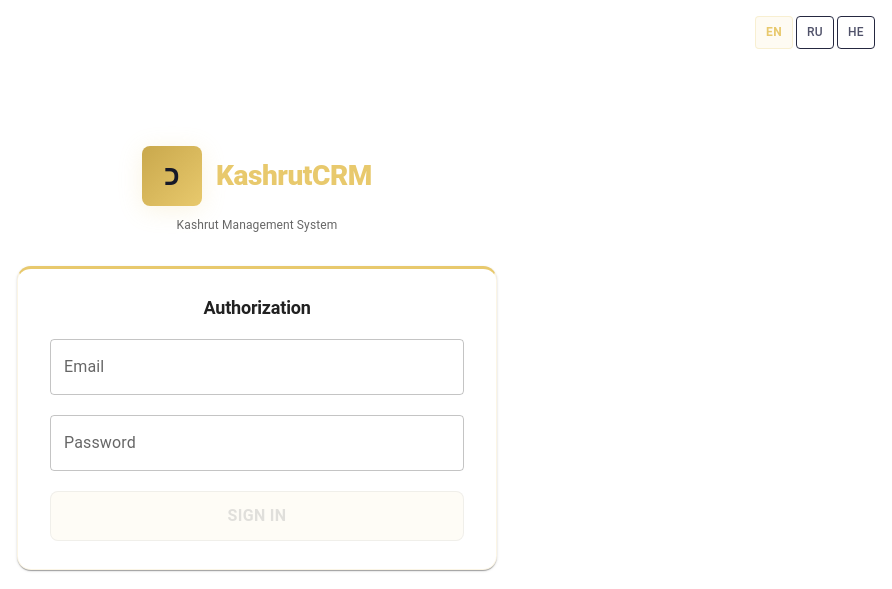
Test: Login page — email/password form › sign-in button is disabled until both fields filled
This screenshot has width=892, height=589.
Expected: the button "Sign in" is disabled, top-left (50, 491), bottom-right (464, 541)
Type "a@b.il" into the field labelled "Email" at (257, 367), box top-left (50, 339), bottom-right (464, 395)
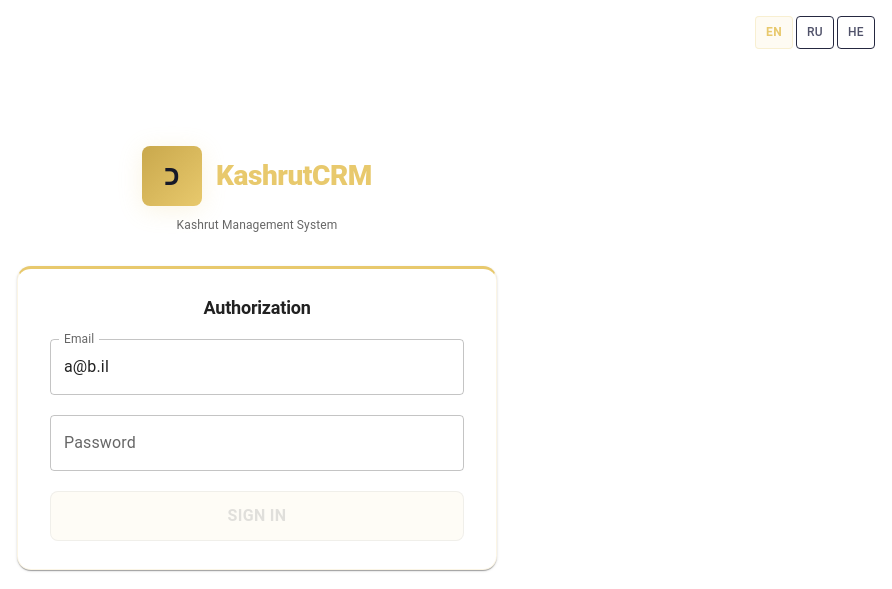
Type "pw1" into the password field labelled "Password" at (257, 443), box top-left (50, 415), bottom-right (464, 471)
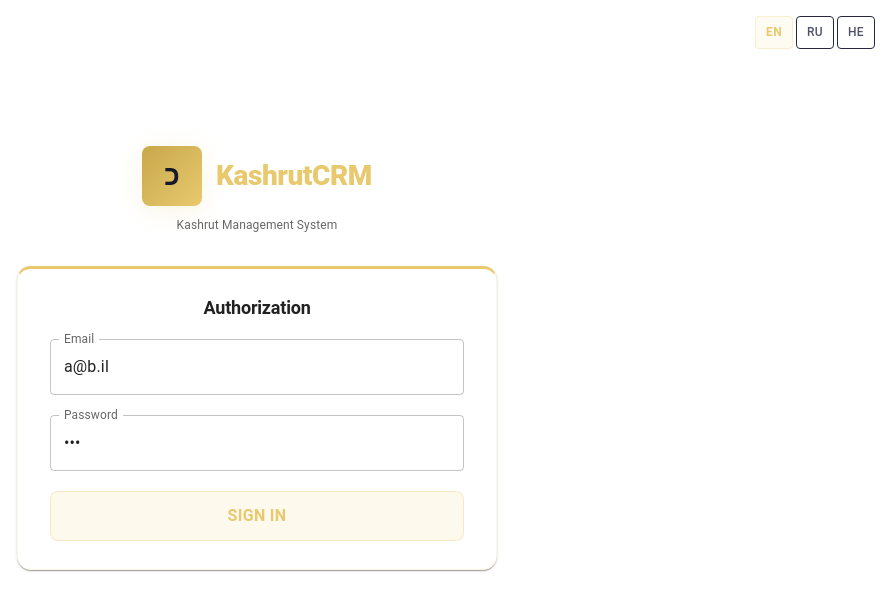
Now the button "Sign in" is enabled, box top-left (50, 491), bottom-right (464, 541)
